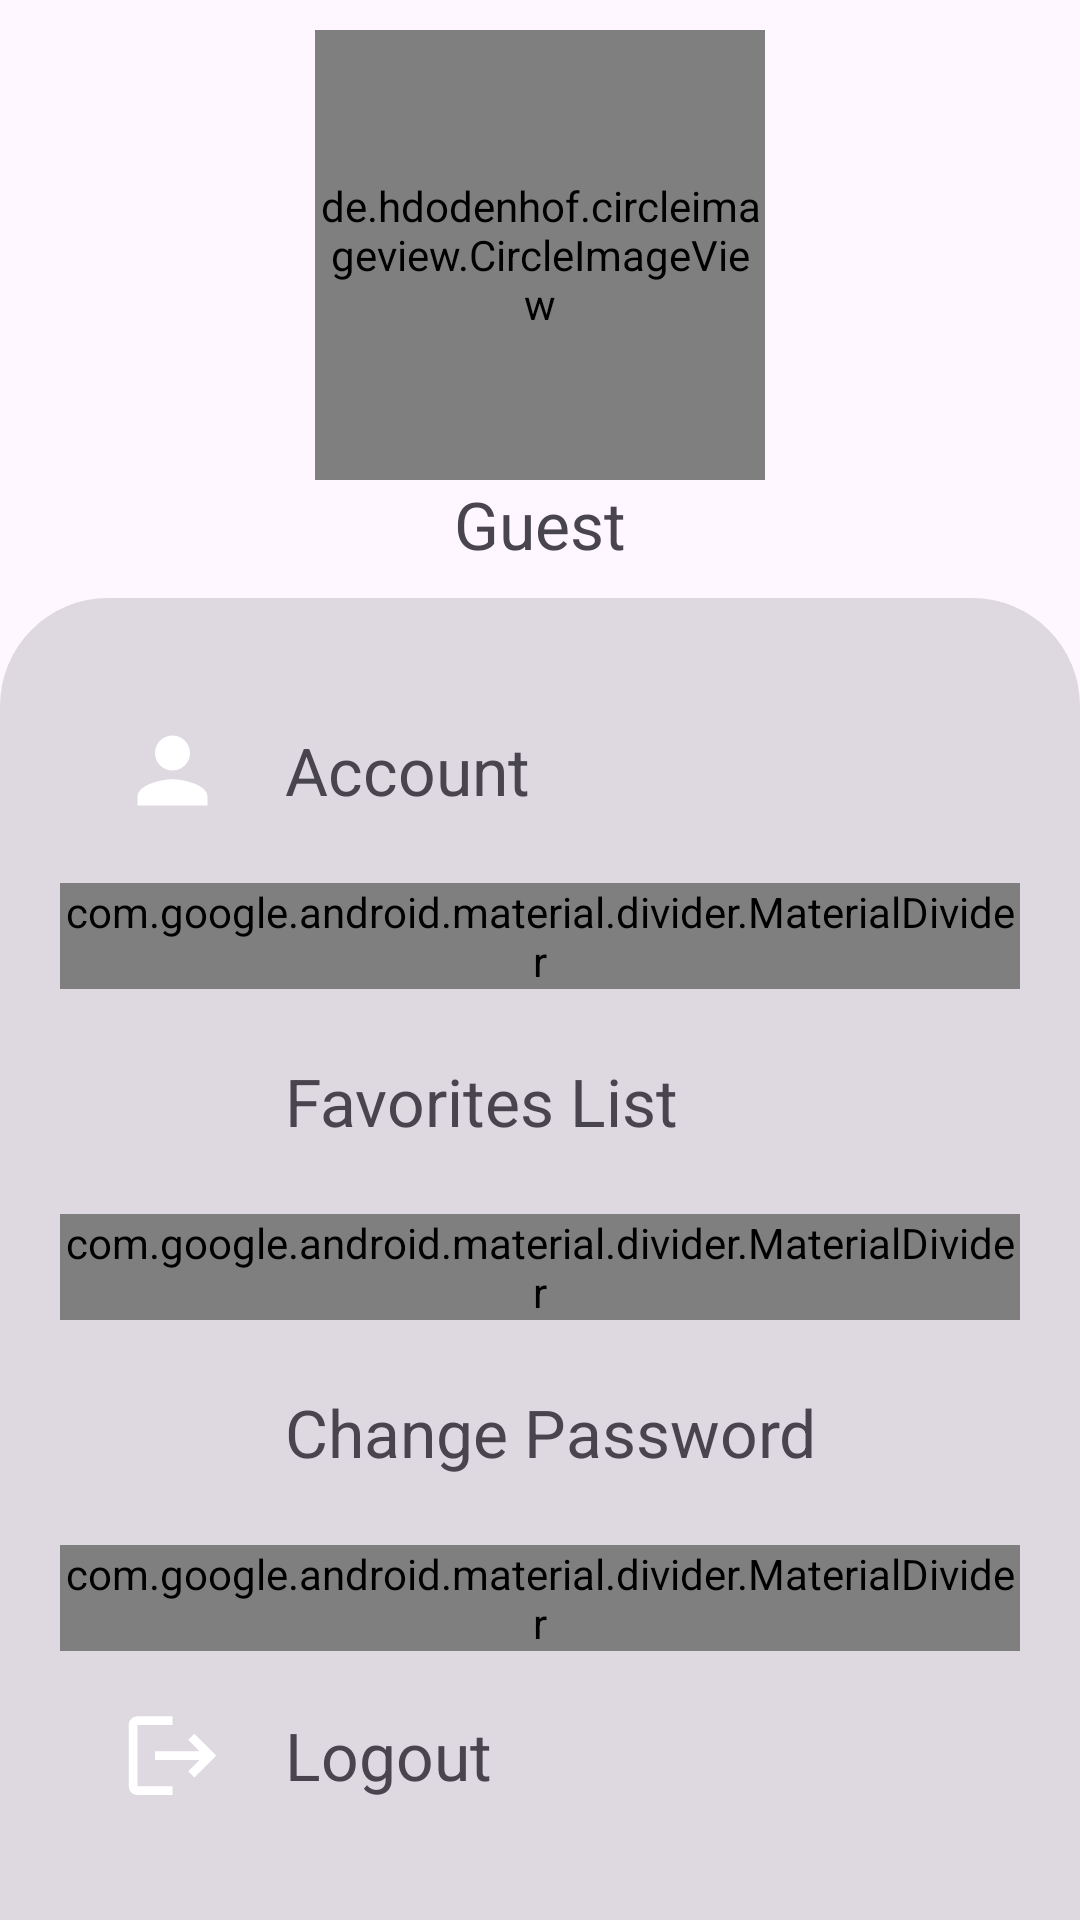

Screen size 1080x1920. Icon name, then its center in pixels as [x,y]:
person: [172,770]
